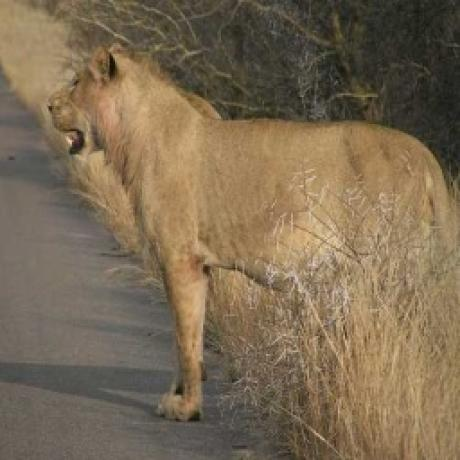Lion: (50, 40, 450, 428)
